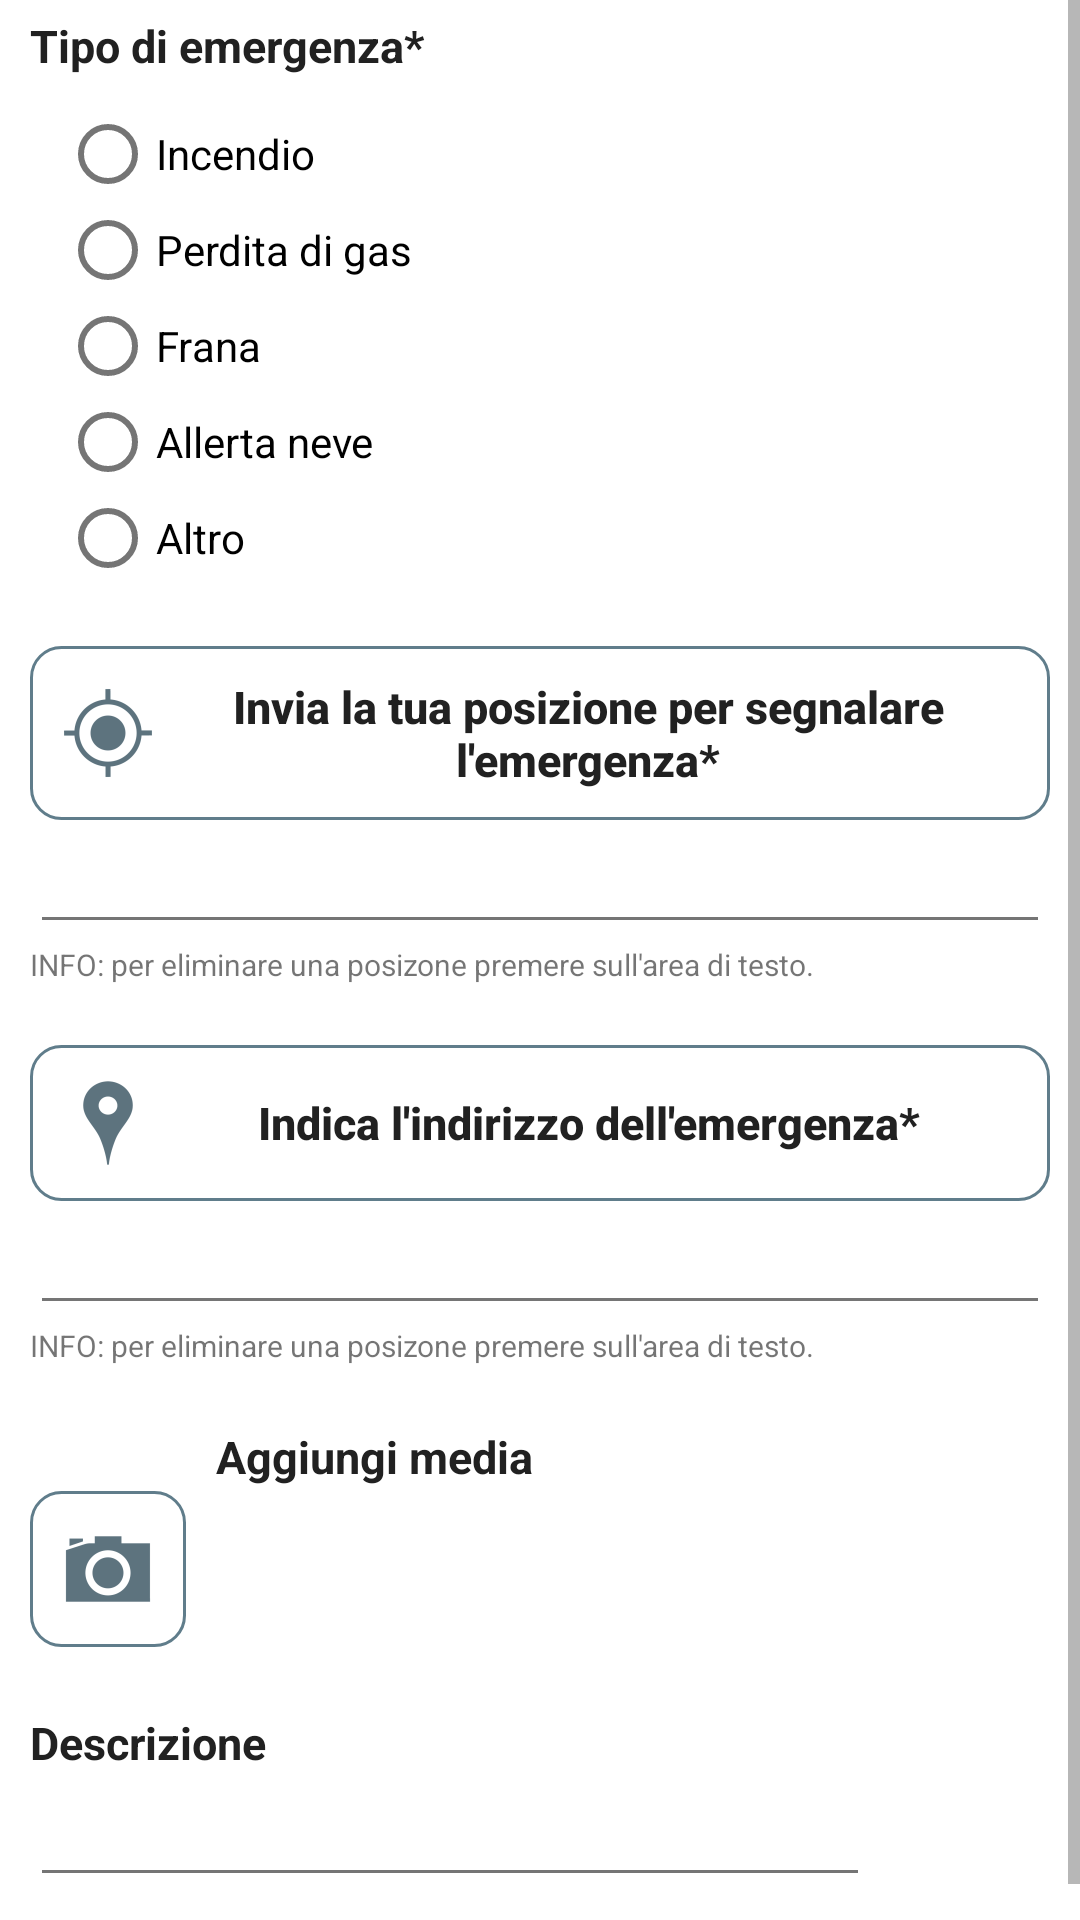

Named icons in this screenshot (1080px x 1920px) and their centers, [x,y]:
camera: [108,1569]
